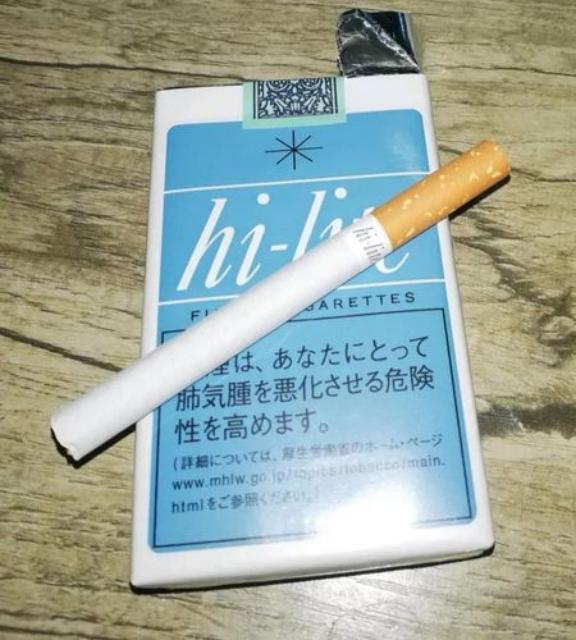Smoking: (50, 140, 512, 460)
